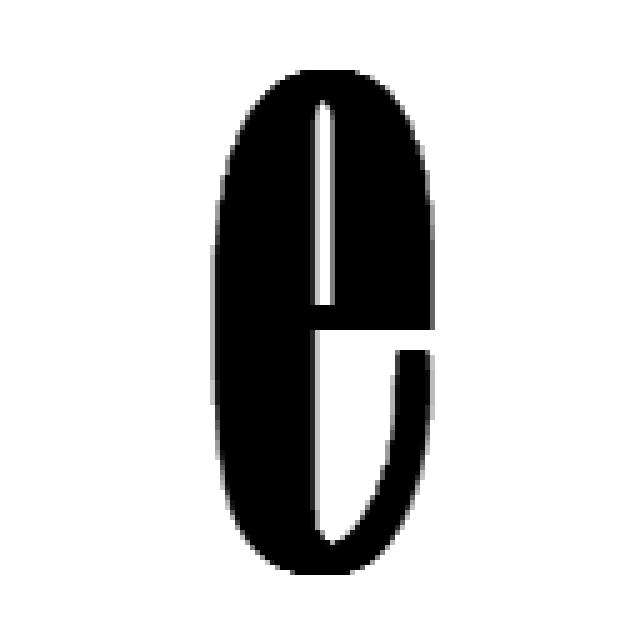E: (215, 70, 435, 575)
